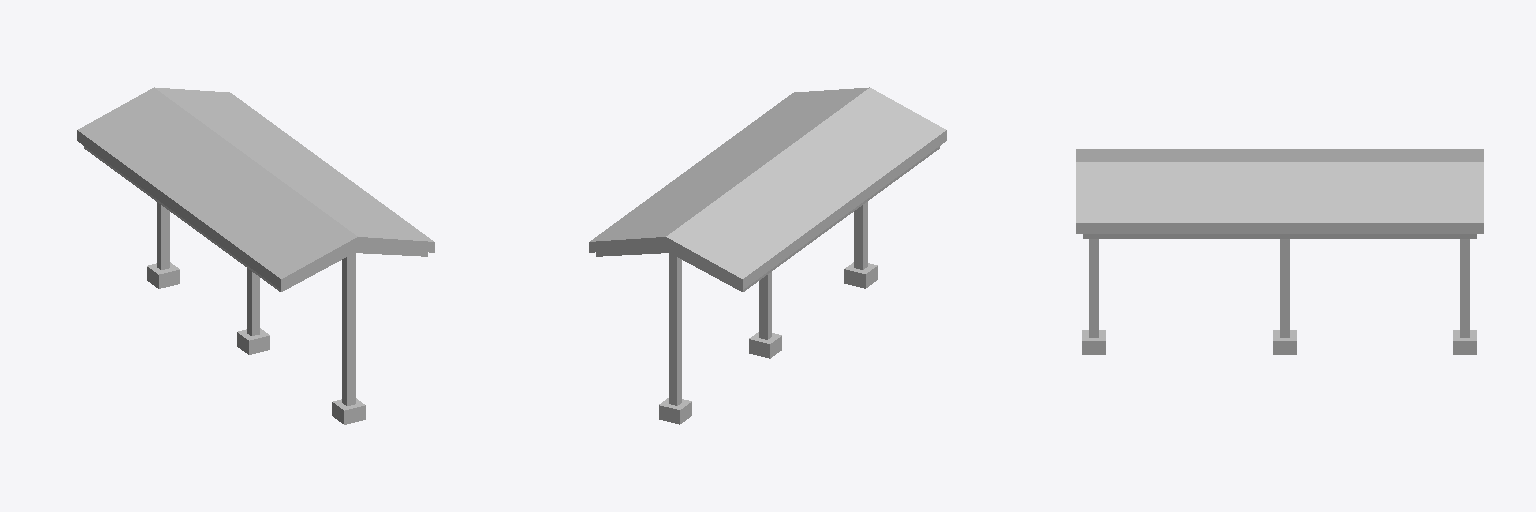
The model's file is SM_Bld_VehicleBay_03.obj.
3 views of the same model, side by side, from view 1: azimuth 30°, elevation 25°; view 2: azimuth 150°, elevation 25°; view 3: azimuth 270°, elevation 25° (orthographic).
Visible parts, largest first — view 1: SM_Bld_VehicleBay_03:Mesh; view 2: SM_Bld_VehicleBay_03:Mesh; view 3: SM_Bld_VehicleBay_03:Mesh.
Part boxes in pixels (x1,y1,x2,y2): SM_Bld_VehicleBay_03:Mesh: (77, 87, 434, 424); SM_Bld_VehicleBay_03:Mesh: (589, 87, 946, 424); SM_Bld_VehicleBay_03:Mesh: (1076, 149, 1483, 354).
Bounding box in the file's own units: 5.02 × 5.87 × 11.56.